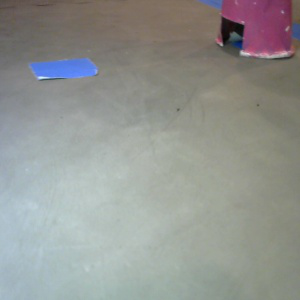right: (214, 1, 296, 60)
